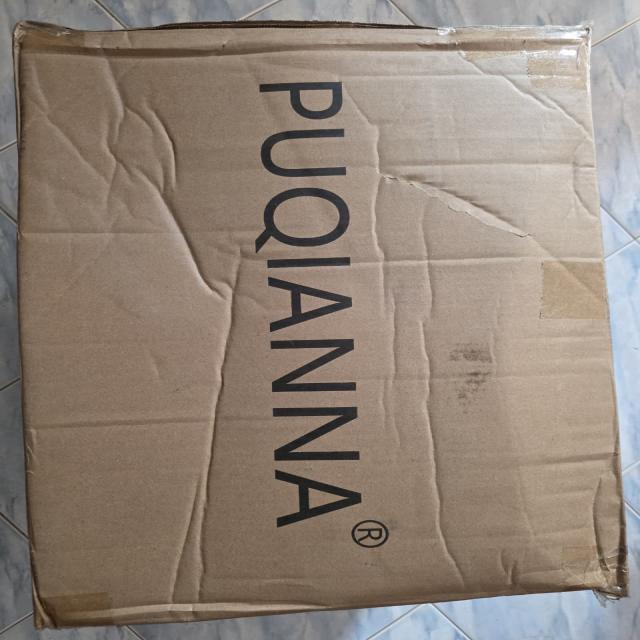carton_box: (7, 16, 637, 637)
